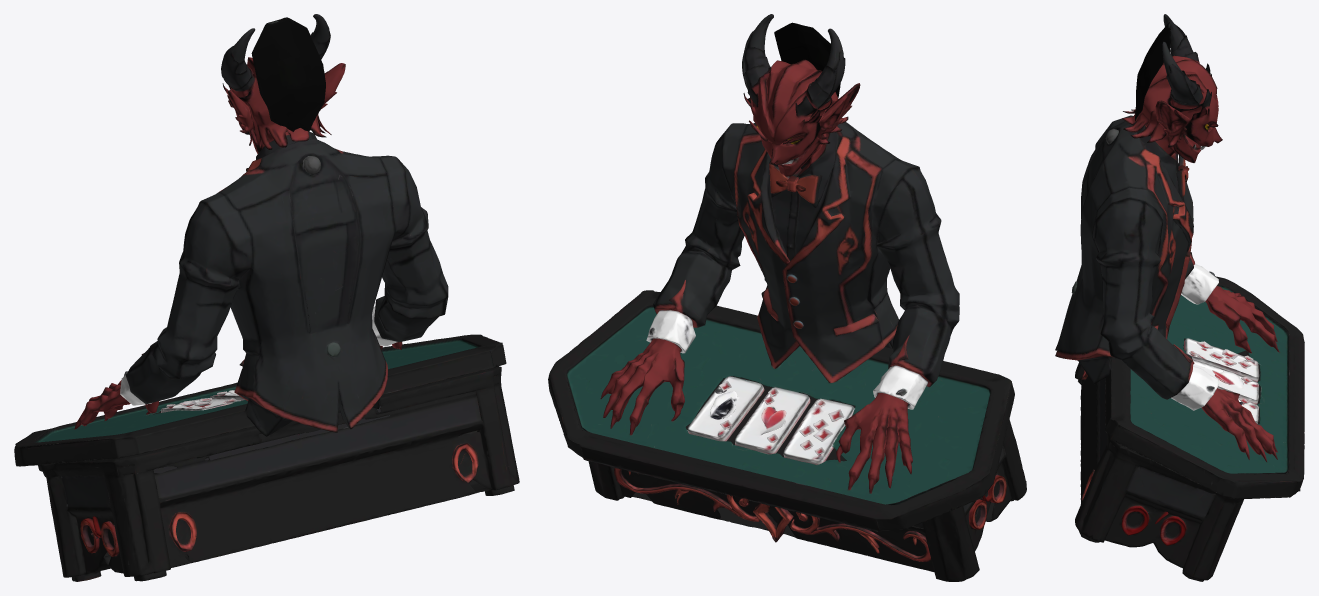
File: gambler.glb
The picture shows the model from 3 angles, left to right: view 1: azimuth 30°, elevation 25°; view 2: azimuth 150°, elevation 25°; view 3: azimuth 270°, elevation 25°; orthographic projection. The views are drawn at different scales.
Parts seen in each view (by area): view 1: world; view 2: world; view 3: world.
Part boxes in pixels (left/top/right/bottom): world: left=14, top=14, right=519, bottom=581; world: left=548, top=14, right=1026, bottom=581; world: left=1055, top=14, right=1304, bottom=581.
Size of the model in its own units: 0.8603 by 0.9454 by 0.4521.
Materials: 1 (1 with a texture image).
